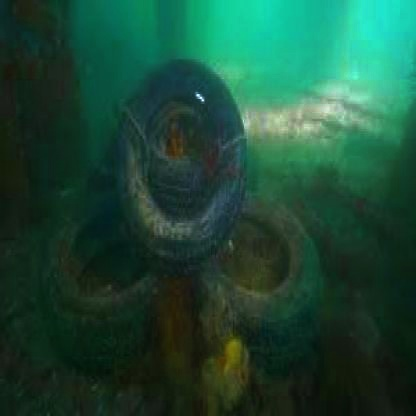tire: (113, 67, 250, 280), (187, 181, 330, 374), (34, 169, 156, 340)
